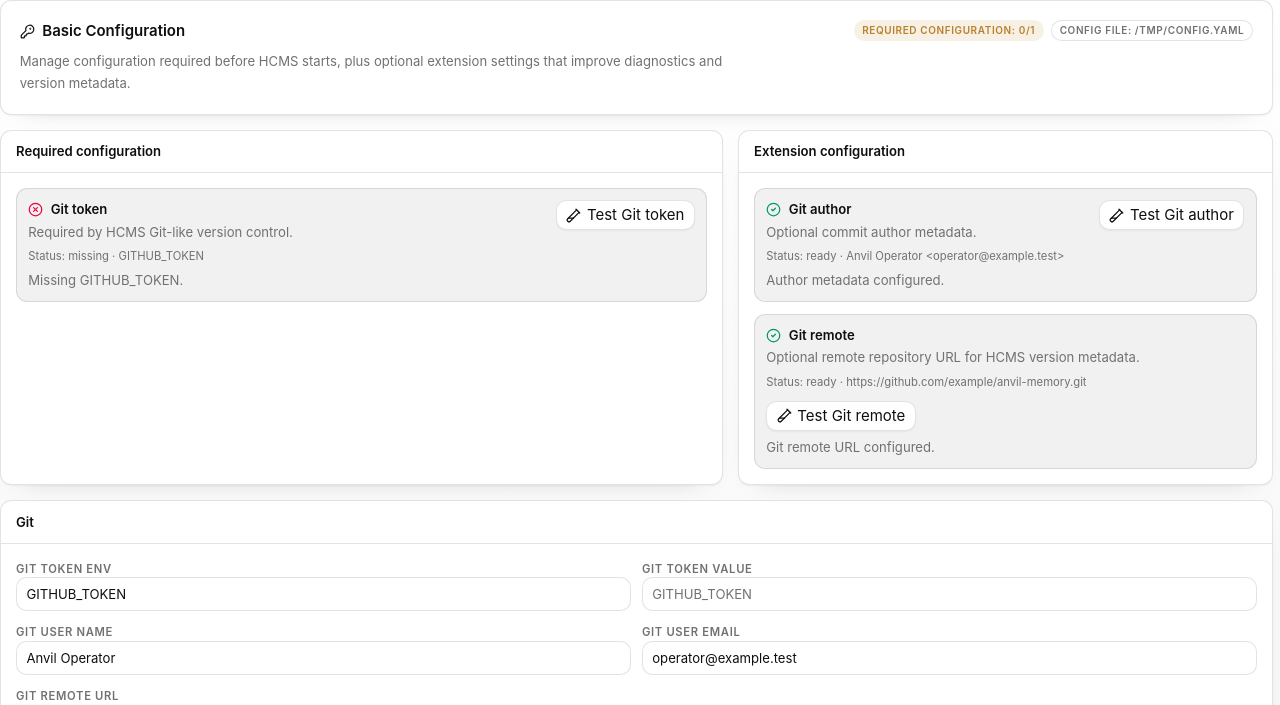
Test case: BasicConfigPanel › runs a per-item basic config test
Click the button "Test Git token": (625, 215) [556,200,695,230]
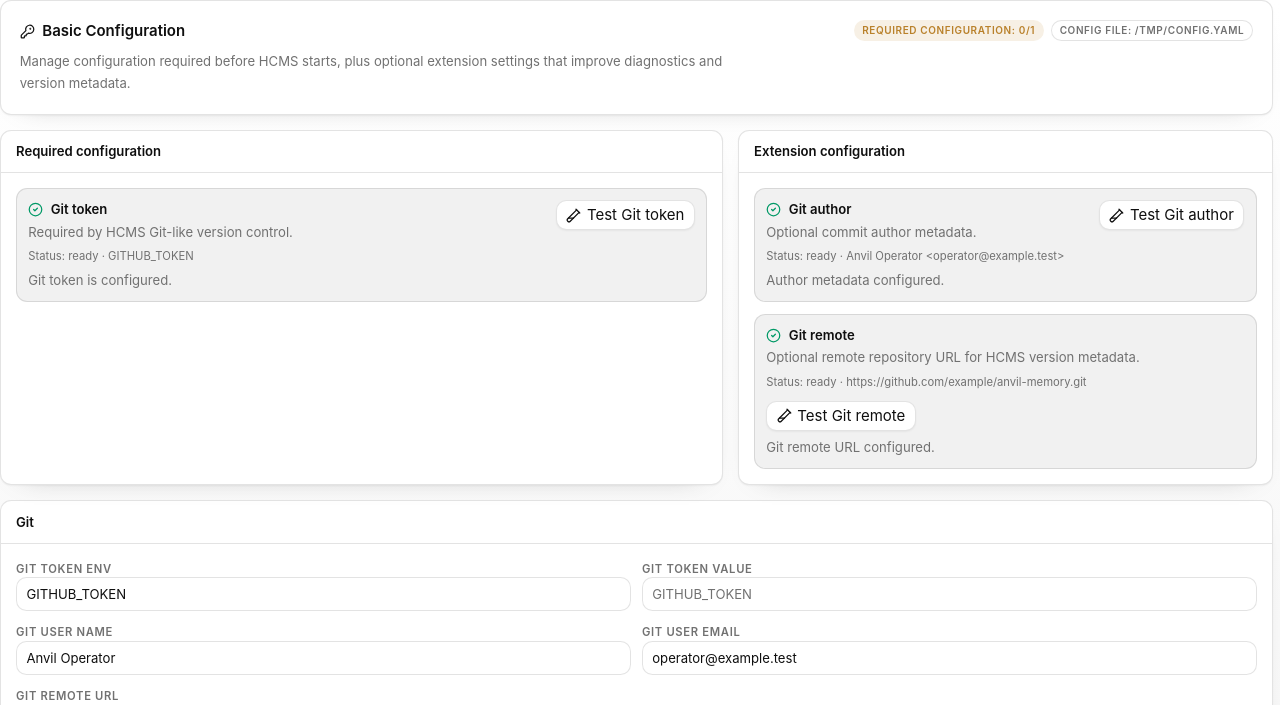
Check: the text "Git token is configured." is shown, box [28,272,172,288]
